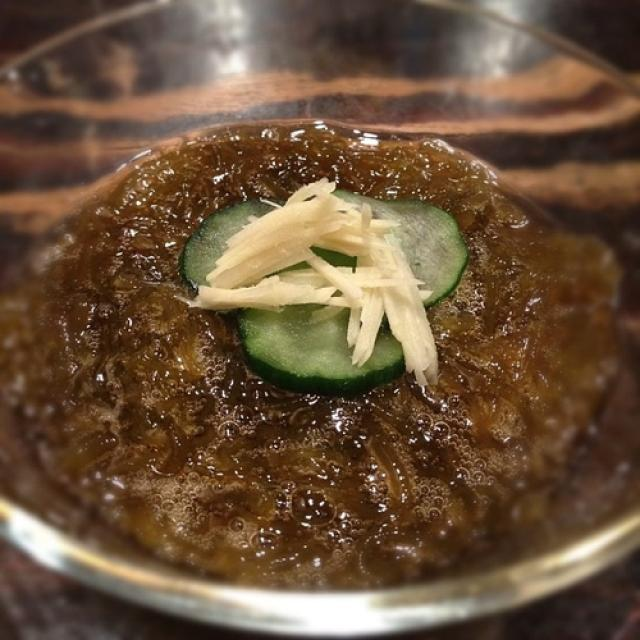蔬菜料理: (21, 53, 602, 599)
